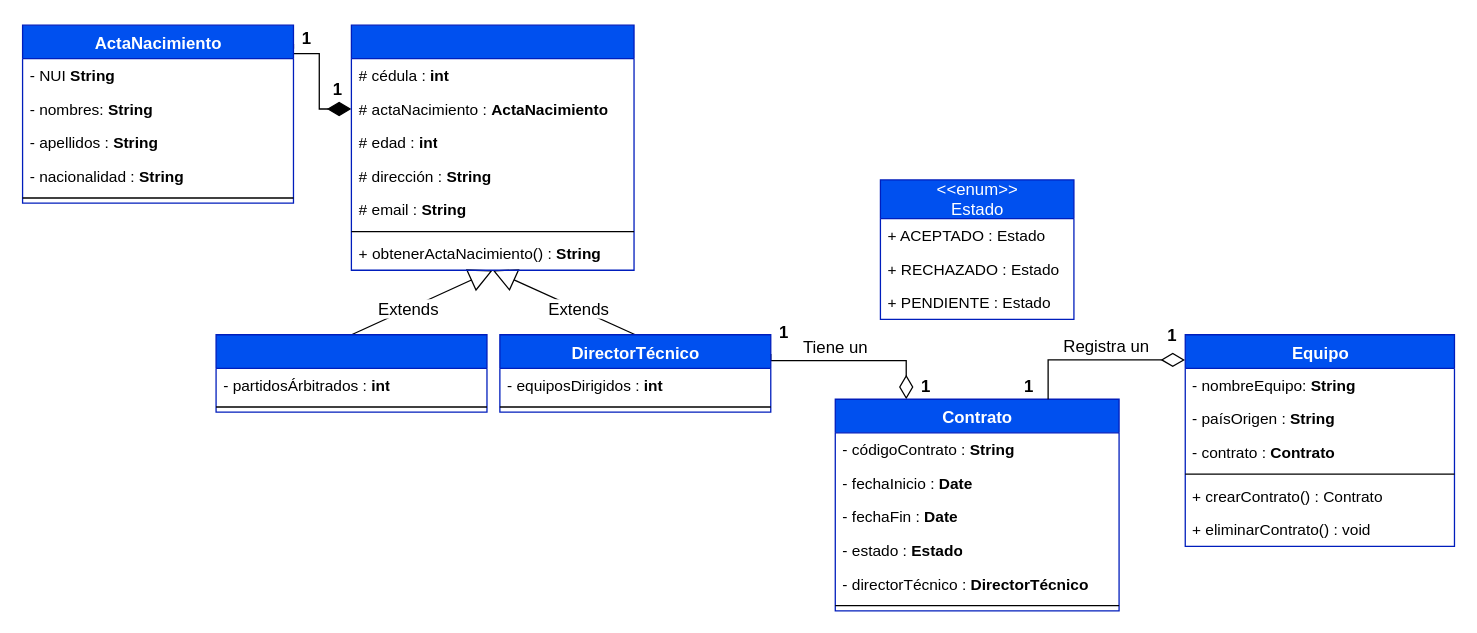
This 1477x633 diagram has some shape labels left out. Each missing label, with the box of its shape:
Persona: (350, 24, 634, 270)
Árbitro: (215, 333, 487, 412)
